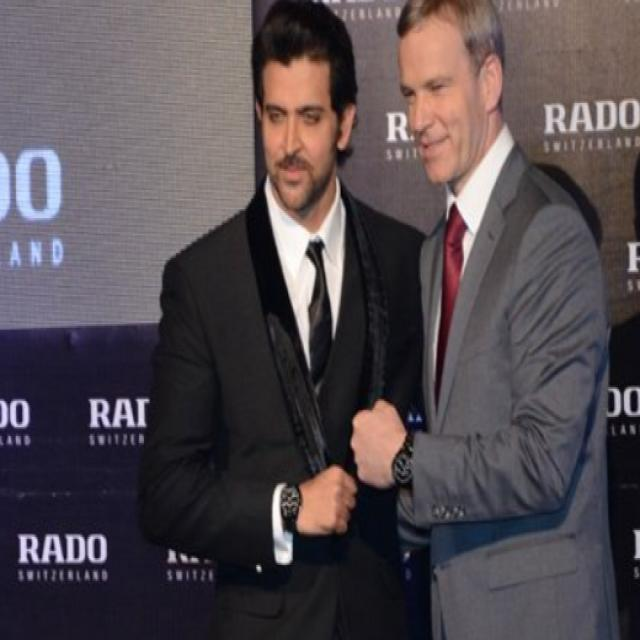Watch: (387, 426, 418, 494), (277, 476, 301, 536)
